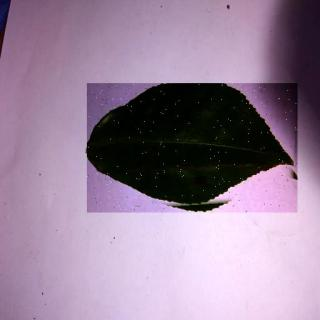Bird Eye Spot: (88, 84, 298, 214)
